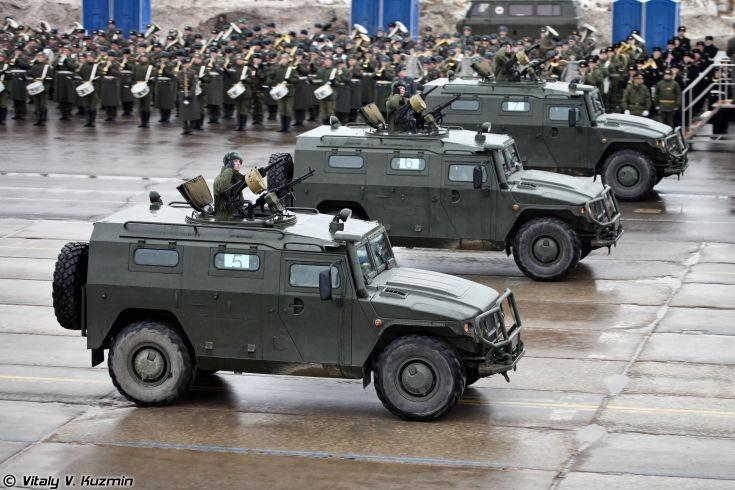armored_car: (41, 157, 534, 418), (285, 117, 626, 284), (419, 79, 690, 201)
